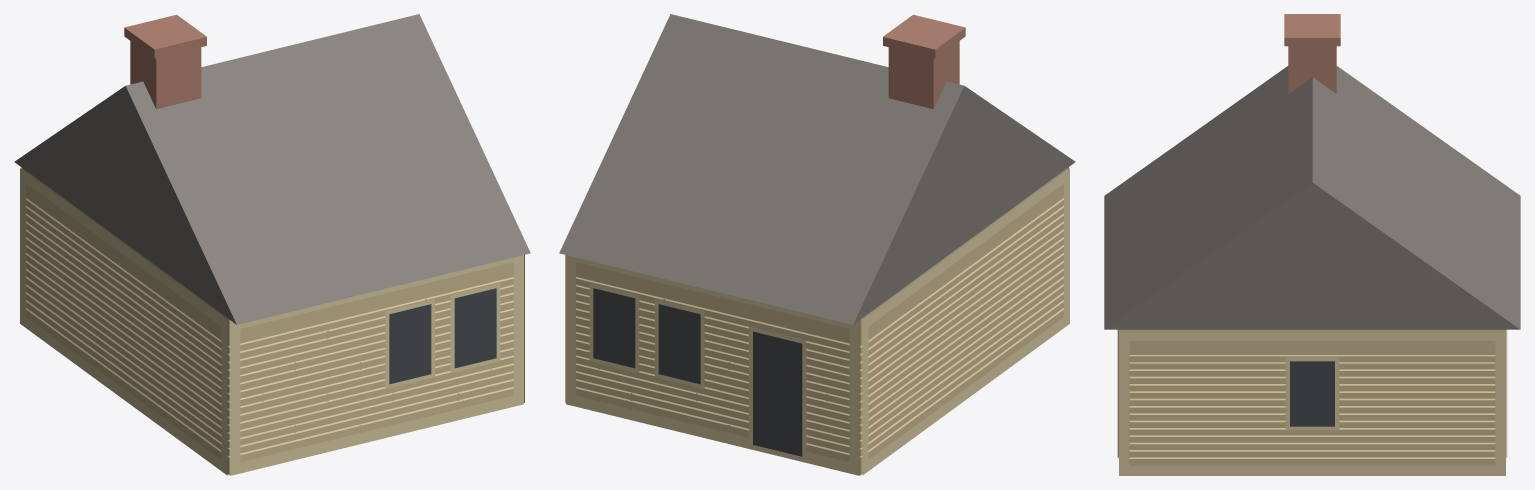
Rendered from recon_1835_north_d3_038__inferred_1835.glb.
3 renders of one model, left to right at view 1: azimuth 30°, elevation 25°; view 2: azimuth 150°, elevation 25°; view 3: azimuth 270°, elevation 25°, orthographic. The views are drawn at different scales.
Visible parts, largest first — view 1: recon_1835_north_d3_038__inferred_1835; view 2: recon_1835_north_d3_038__inferred_1835; view 3: recon_1835_north_d3_038__inferred_1835.
Boxes of the visible parts, x1,y1,x2,y2 form: recon_1835_north_d3_038__inferred_1835: (14,14,530,475); recon_1835_north_d3_038__inferred_1835: (559,14,1075,475); recon_1835_north_d3_038__inferred_1835: (1104,14,1520,475).
Bounding box in the file's own units: 5.57 × 6.37 × 7.21.
